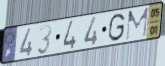3: (36, 23, 56, 56)
4: (62, 18, 78, 51), (83, 15, 99, 48), (18, 26, 34, 57)
G: (107, 12, 126, 43)
M: (124, 6, 150, 42)
